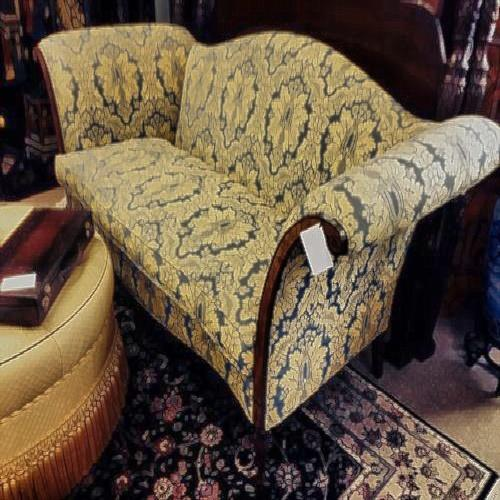sofa: (44, 22, 473, 420)
